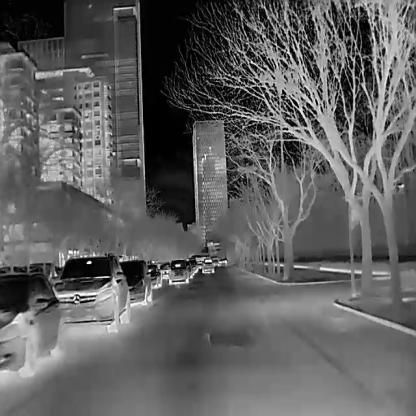car: (0, 273, 59, 377), (56, 255, 129, 334), (120, 257, 152, 304), (169, 258, 188, 283), (147, 263, 160, 288), (200, 258, 214, 272), (186, 260, 192, 280), (190, 258, 198, 272)
